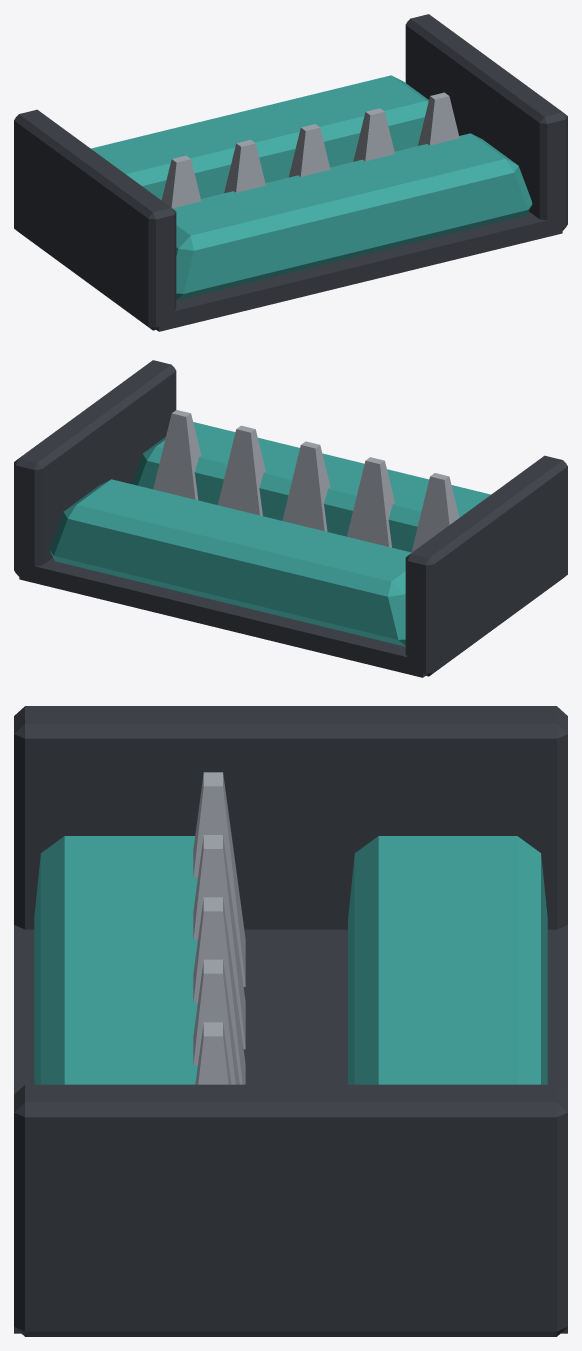
Rendered from shredder_m0_1.glb.
The picture shows the model from 3 angles, top to bottom: view 1: azimuth 30°, elevation 25°; view 2: azimuth 150°, elevation 25°; view 3: azimuth 270°, elevation 25°; orthographic projection. The views are drawn at different scales.
Parts seen in each view (by area): view 1: shredder_m0_1_mesh; view 2: shredder_m0_1_mesh; view 3: shredder_m0_1_mesh.
Boxes of the visible parts, bbox=[...] form: shredder_m0_1_mesh: bbox=[14, 14, 567, 331]; shredder_m0_1_mesh: bbox=[14, 360, 567, 677]; shredder_m0_1_mesh: bbox=[14, 706, 567, 1336].
Size of the model in its own units: 0.52 by 0.14 by 0.3.
